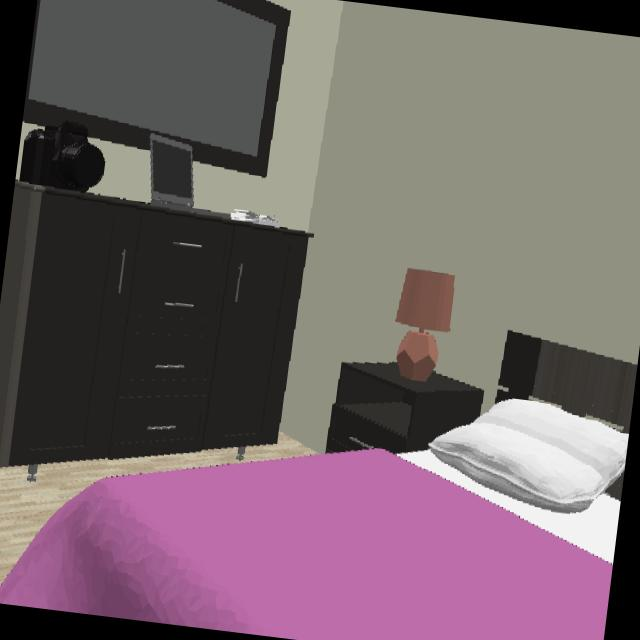bed: (0, 449, 620, 640)
book: (230, 209, 279, 227)
cabinet: (0, 191, 309, 465)
lamp: (394, 269, 455, 384)
laptop: (147, 134, 196, 212)
nighttable: (326, 365, 483, 455)
pillow: (427, 398, 628, 522)
